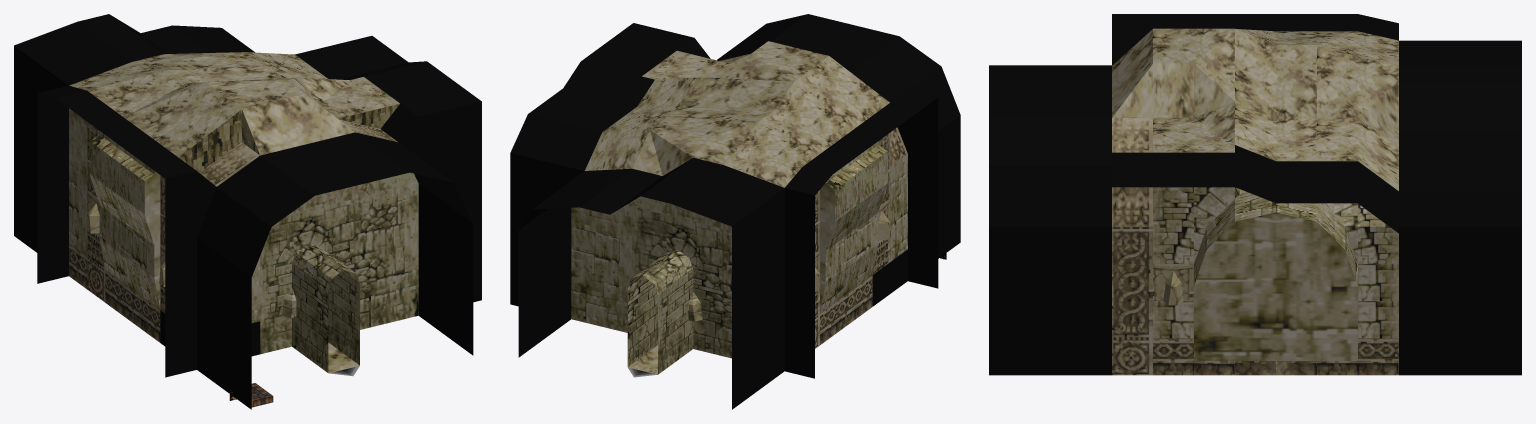
Rendered from MAP027.obj.
The picture shows the model from 3 angles, left to right: view 1: azimuth 30°, elevation 25°; view 2: azimuth 150°, elevation 25°; view 3: azimuth 270°, elevation 25°; orthographic projection. The views are drawn at different scales.
Parts seen in each view (by area): view 1: mesh_44, mesh_70, mesh_45, mesh_43, mesh_42, mesh_25, mesh_23, mesh_58, mesh_54, mesh_27, mesh_31, mesh_28 (+10 smaller); view 2: mesh_70, mesh_42, mesh_45, mesh_43, mesh_44, mesh_15, mesh_17, mesh_49, mesh_58, mesh_27, mesh_56, mesh_28 (+10 smaller); view 3: mesh_42, mesh_44, mesh_70, mesh_52, mesh_20, mesh_19, mesh_43, mesh_45, mesh_53, mesh_32, mesh_68.
Part boxes in pixels (bbox=[...]): mesh_44: bbox=[197, 132, 473, 409]; mesh_70: bbox=[69, 52, 399, 157]; mesh_45: bbox=[37, 85, 216, 377]; mesh_43: bbox=[295, 36, 481, 302]; mesh_42: bbox=[14, 14, 255, 252]; mesh_25: bbox=[355, 183, 418, 329]; mesh_23: bbox=[260, 199, 359, 354]; mesh_58: bbox=[69, 175, 160, 309]; mesh_54: bbox=[292, 264, 359, 372]; mesh_27: bbox=[87, 122, 165, 342]; mesh_31: bbox=[179, 103, 399, 172]; mesh_28: bbox=[69, 144, 160, 308]; mesh_70: bbox=[585, 41, 889, 187]; mesh_42: bbox=[518, 157, 784, 409]; mesh_45: bbox=[784, 90, 938, 378]; mesh_43: bbox=[510, 23, 710, 306]; mesh_44: bbox=[717, 14, 960, 258]; mesh_15: bbox=[632, 206, 723, 356]; mesh_17: bbox=[571, 205, 632, 332]; mesh_49: bbox=[627, 269, 693, 374]; mesh_58: bbox=[820, 183, 907, 313]; mesh_27: bbox=[815, 133, 890, 344]; mesh_56: bbox=[826, 142, 887, 221]; mesh_28: bbox=[820, 183, 907, 311]; mesh_42: bbox=[1399, 40, 1521, 375]; mesh_44: bbox=[989, 65, 1111, 375]; mesh_70: bbox=[1112, 28, 1398, 190]; mesh_52: bbox=[1194, 193, 1357, 360]; mesh_20: bbox=[1112, 187, 1316, 375]; mesh_19: bbox=[1153, 187, 1398, 338]; mesh_43: bbox=[1112, 145, 1398, 233]; mesh_45: bbox=[1112, 14, 1398, 65]; mesh_53: bbox=[1317, 338, 1398, 375]; mesh_32: bbox=[1112, 65, 1152, 152]; mesh_68: bbox=[1163, 271, 1183, 305].
Bounding box in the file's own units: 128 × 91 × 166.
Materials: 23 (23 with a texture image).
